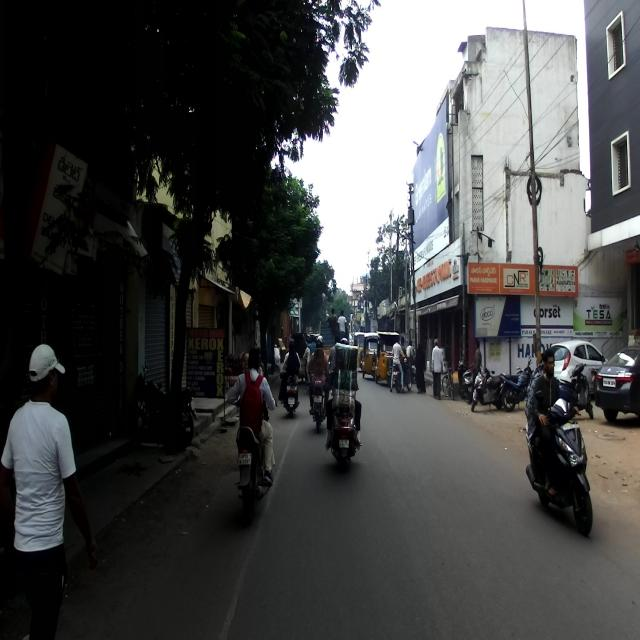motorcycle_Hero: (232, 396, 275, 520)
scooter: (523, 388, 593, 538), (325, 367, 361, 472)
